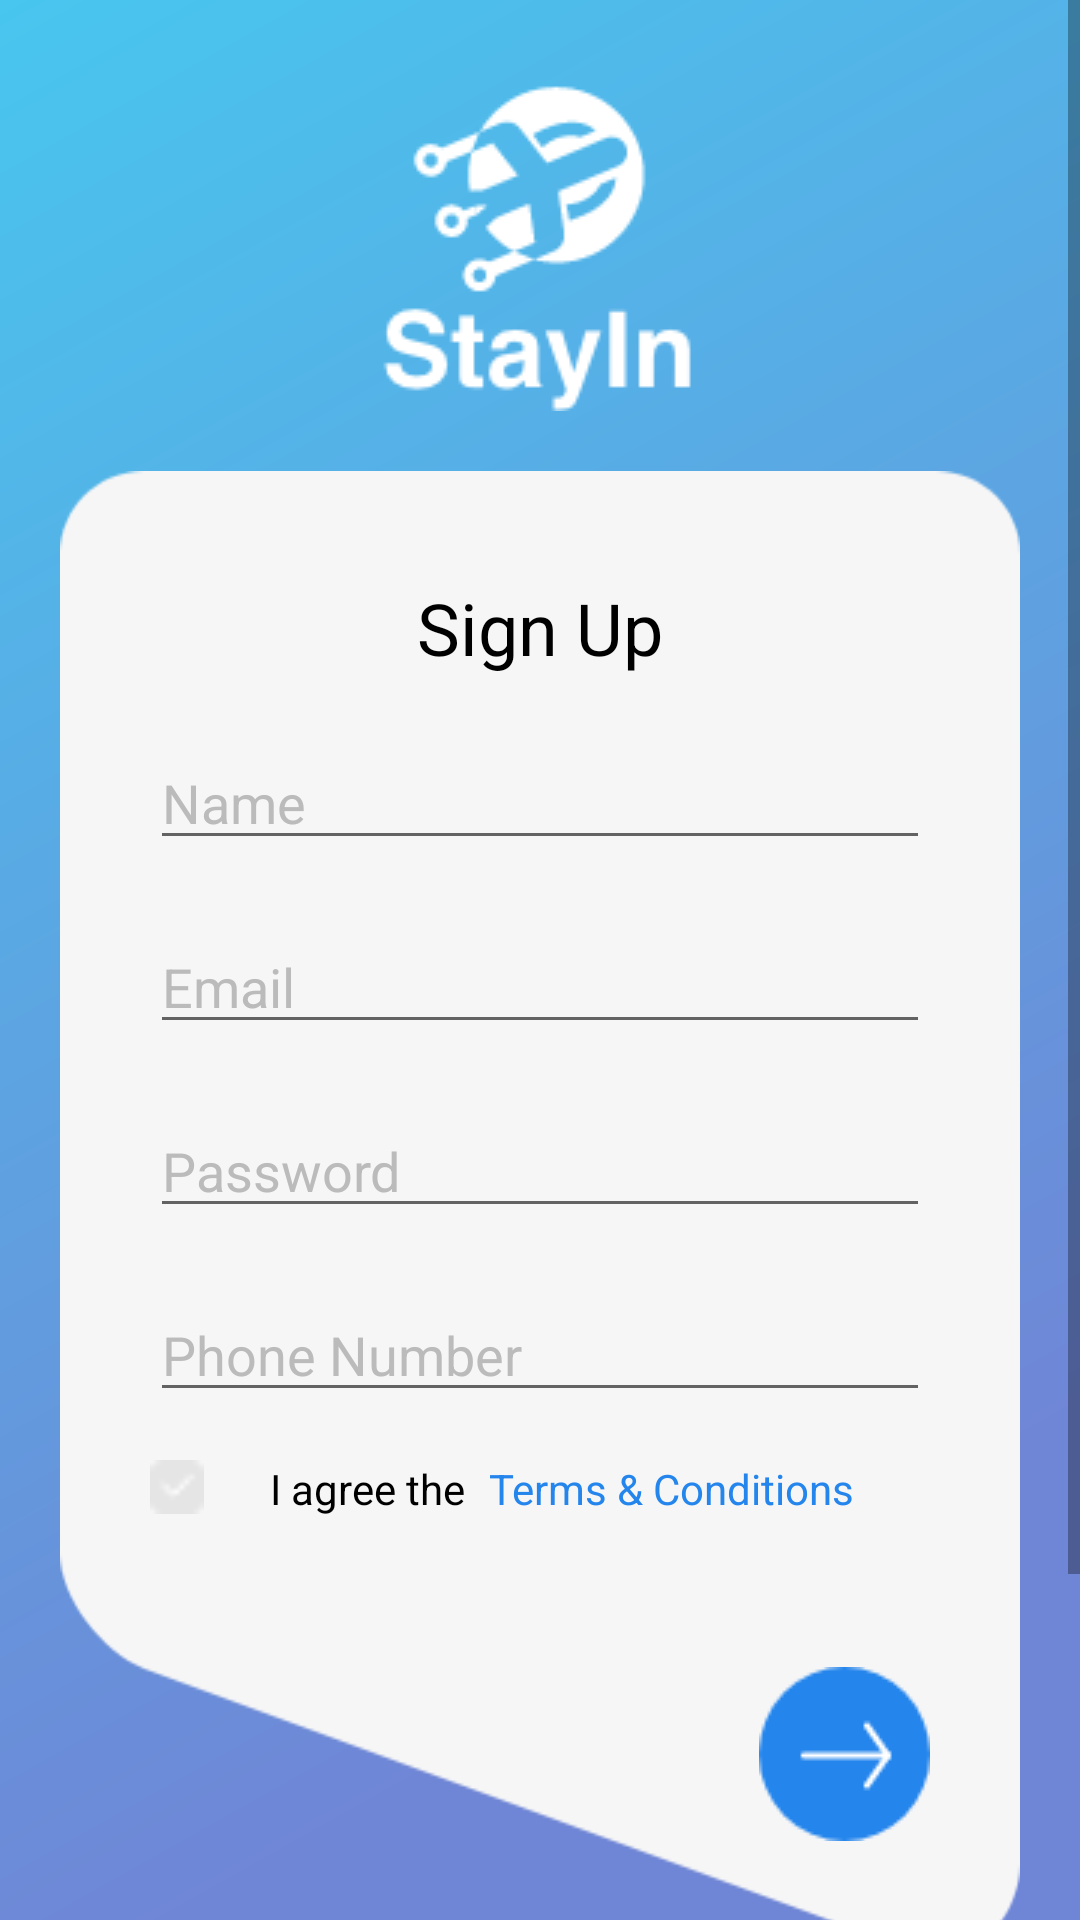

Screen size 1080px×1920px. Icon name, then its box in pixels as (x1, y1, x2, y2):
right circle: (759, 1667, 930, 1841)
